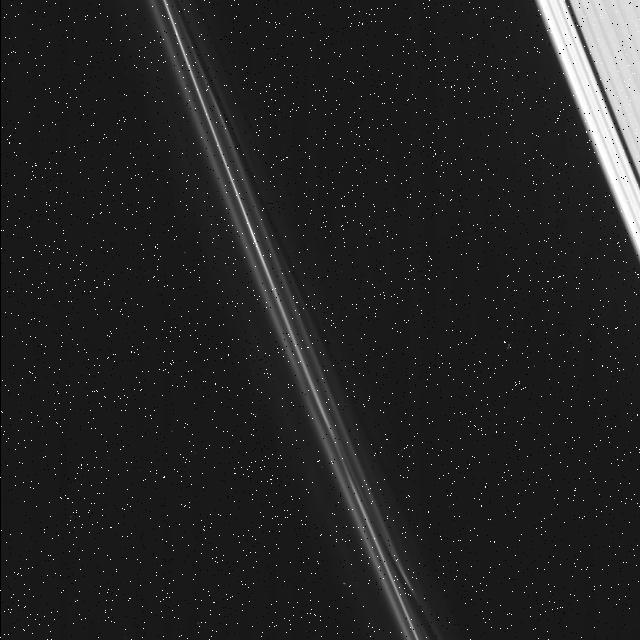Saturn: (126, 0, 640, 640)
